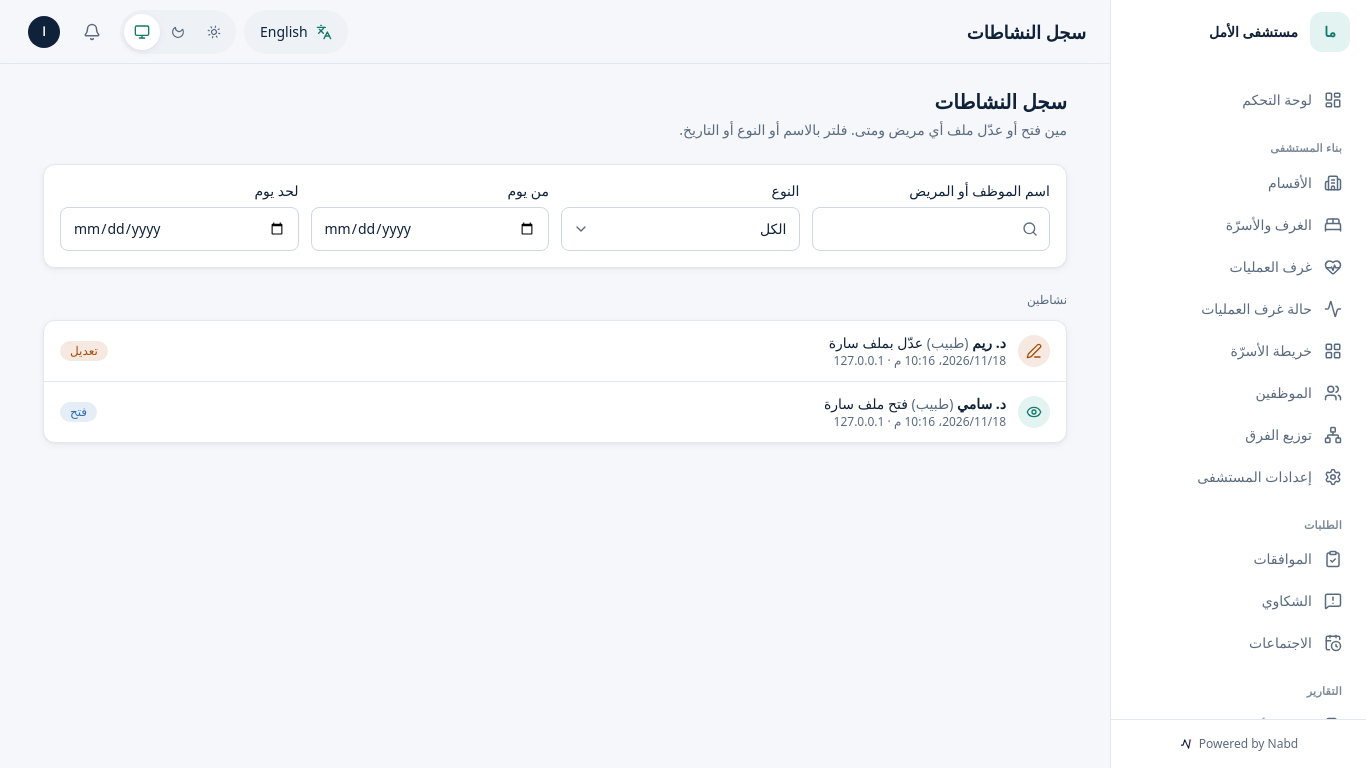
Test case: ActivityPage (task 4.22) › lists who opened or changed which file, and filters by kind
Expected: the text "عدّل بملف سارة" is shown, [829,333,923,352]
Expected: the text "فتح ملف سارة" is shown, [824,394,908,413]
Select "تعديل" in the dropdown labelled "النوع". click: (680, 229)
box: [561,207,800,251]
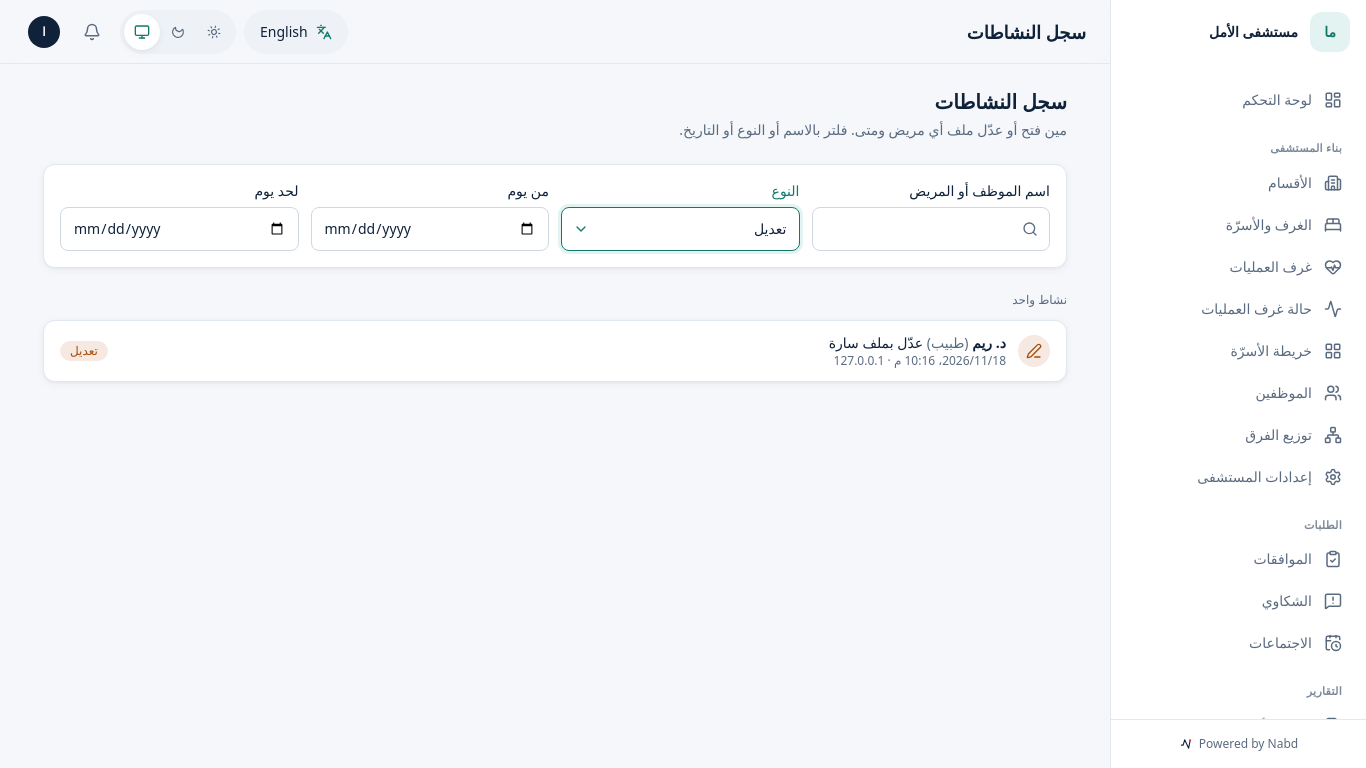
Expected: the text "نشاط واحد" is shown, [1012,291,1067,308]
Expected: the text "فتح ملف سارة" is gone
